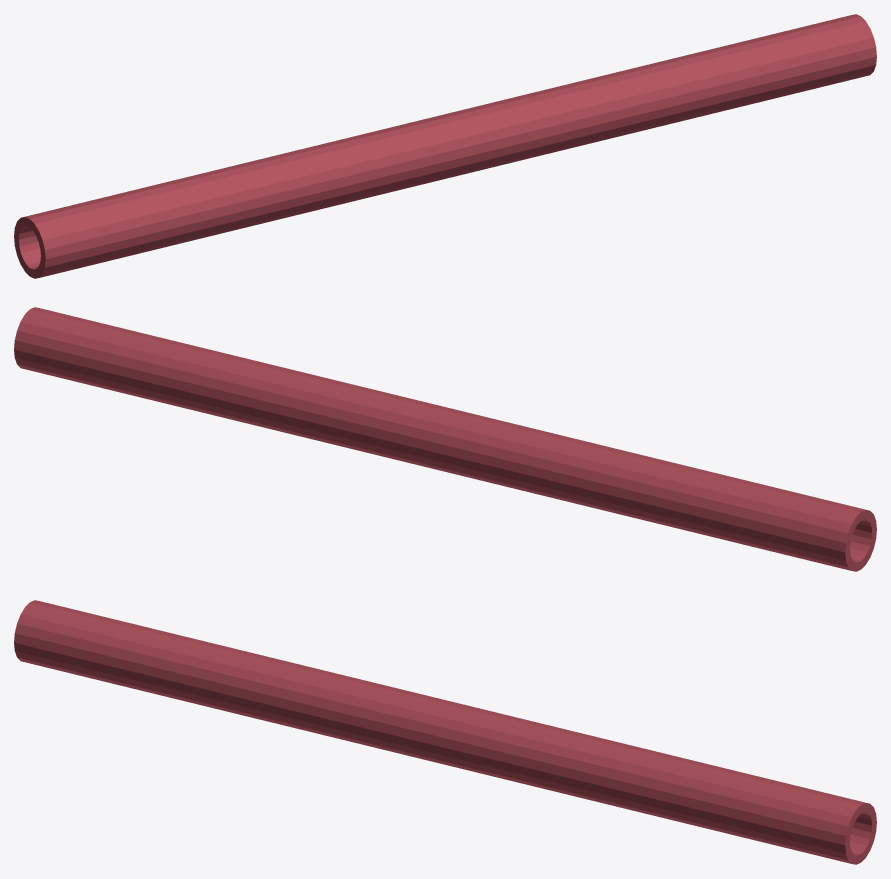
File: dranmar_rescue_vessel_bleeding.glb
The picture shows the model from 3 angles, top to bottom: view 1: azimuth 30°, elevation 25°; view 2: azimuth 150°, elevation 25°; view 3: azimuth 330°, elevation 25°; orthographic projection.
Parts seen in each view (by area): view 1: Vessel; view 2: Vessel; view 3: Vessel.
Part boxes in pixels (x1=…): Vessel: x1=14, y1=14, x2=876, y2=278; Vessel: x1=14, y1=307, x2=876, y2=571; Vessel: x1=14, y1=600, x2=876, y2=864.
Size of the model in its own units: 0.13 by 0.0086 by 0.0086.
